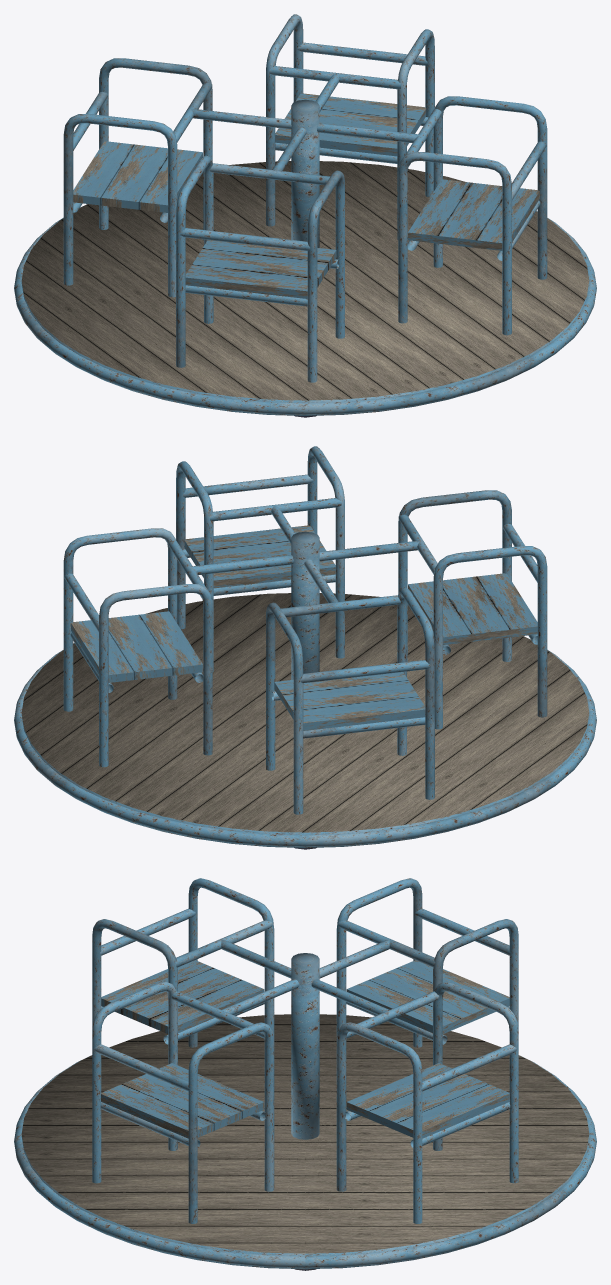
The model's file is playground_carousel_web.glb.
3 views of the same model, one above another, from view 1: azimuth 30°, elevation 25°; view 2: azimuth 150°, elevation 25°; view 3: azimuth 270°, elevation 25° (orthographic).
Visible parts, largest first — view 1: Carousel_RotorMesh; view 2: Carousel_RotorMesh; view 3: Carousel_RotorMesh.
Part boxes in pixels (<box>): Carousel_RotorMesh: <box>14,14,596,415</box>; Carousel_RotorMesh: <box>14,446,596,847</box>; Carousel_RotorMesh: <box>14,878,596,1269</box>.
Bounding box in the file's own units: 2.05 × 1.18 × 2.05.
Materials: 5 (5 with a texture image).
